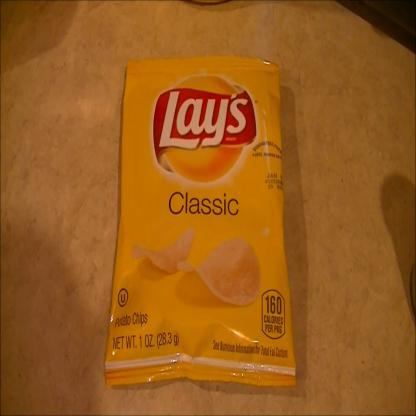potatochip: (108, 53, 296, 392)
